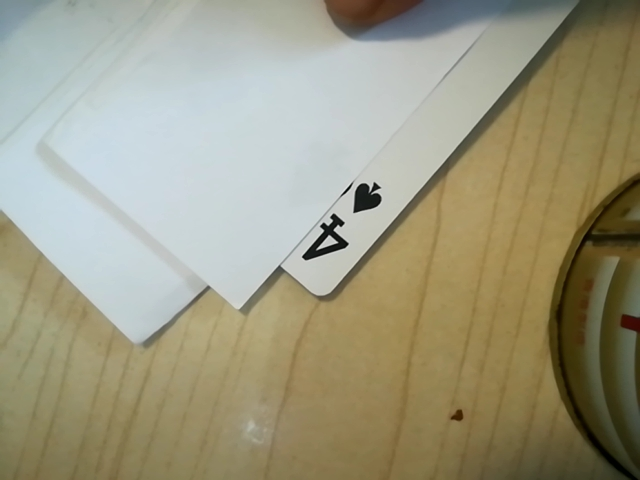ht 4: (279, 169, 398, 282)
